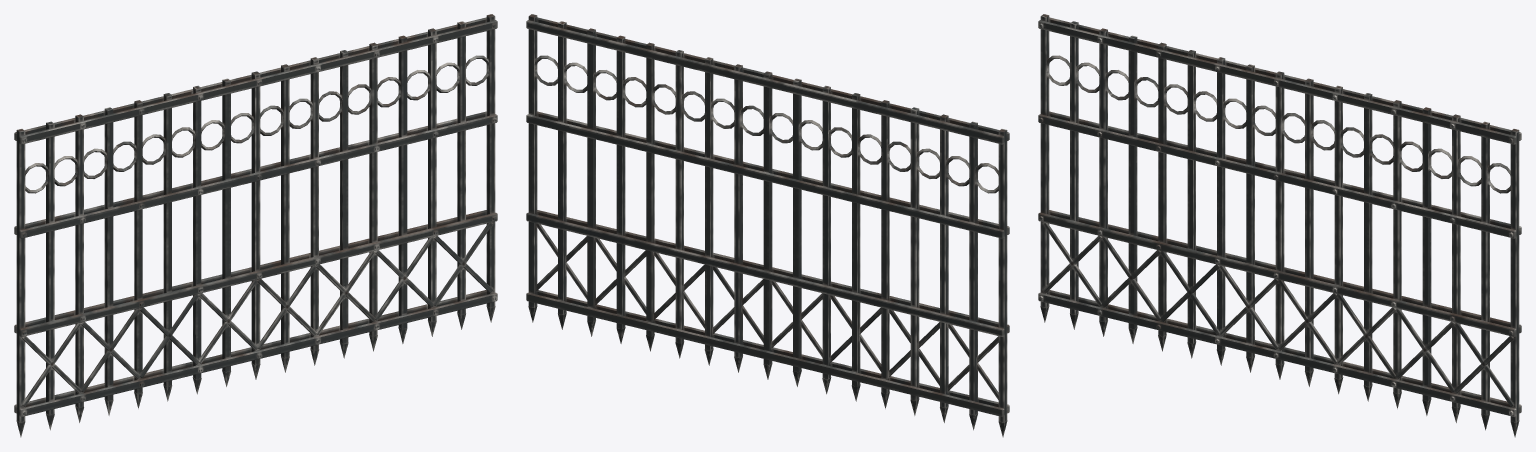
File: crypt_gate.glb
3 renders of one model, left to right at view 1: azimuth 30°, elevation 25°; view 2: azimuth 150°, elevation 25°; view 3: azimuth 330°, elevation 25°, orthographic.
Visible parts, largest first — view 1: crypt_gate; view 2: crypt_gate; view 3: crypt_gate.
Part boxes in pixels (box(x1,y1,x2,y2)): crypt_gate: box(14, 14, 497, 437); crypt_gate: box(526, 14, 1009, 437); crypt_gate: box(1038, 14, 1521, 437).
Size of the model in its own units: 8.12 by 5 by 0.23.
Materials: 1 (1 with a texture image).
